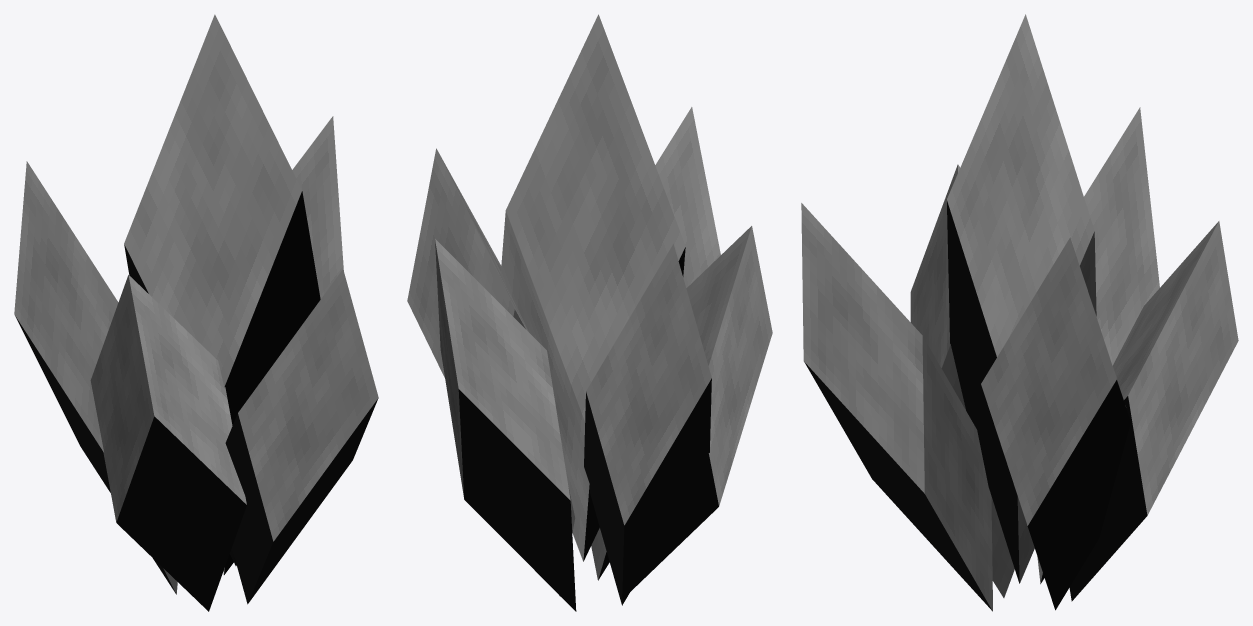
Rendered from order_crystal_cluster.obj.
3 views of the same model, side by side, from view 1: azimuth 30°, elevation 25°; view 2: azimuth 150°, elevation 25°; view 3: azimuth 270°, elevation 25° (orthographic).
Visible parts, largest first — view 1: part0, part4, part5, part3, part1; view 2: part0, part2, part3, part4, part1, part5; view 3: part0, part5, part1, part2, part3, part4.
Boxes of the visible parts, <box> form: part0: <box>124,14,320,565</box>; part4: <box>90,275,246,611</box>; part5: <box>225,269,378,604</box>; part3: <box>14,161,177,594</box>; part1: <box>223,116,343,574</box>; part0: <box>500,14,685,561</box>; part2: <box>435,239,576,611</box>; part3: <box>584,244,711,605</box>; part4: <box>630,226,772,591</box>; part1: <box>407,148,575,596</box>; part5: <box>591,107,720,580</box>; part0: <box>947,14,1096,583</box>; part5: <box>801,203,992,611</box>; part1: <box>981,237,1130,610</box>; part2: <box>1069,221,1238,601</box>; part3: <box>1037,107,1159,584</box>; part4: <box>910,164,1014,597</box>.
Size of the model in its own units: 0.5724 by 1.06 by 0.7064.
